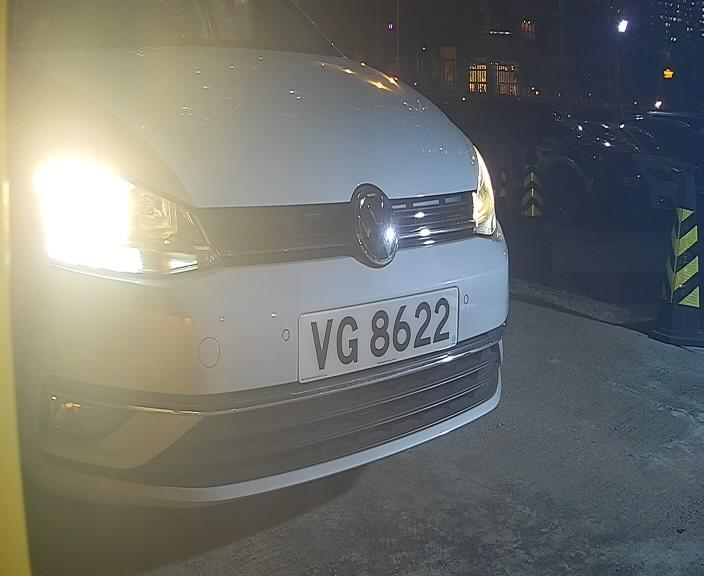License Plate: (290, 283, 466, 384)
